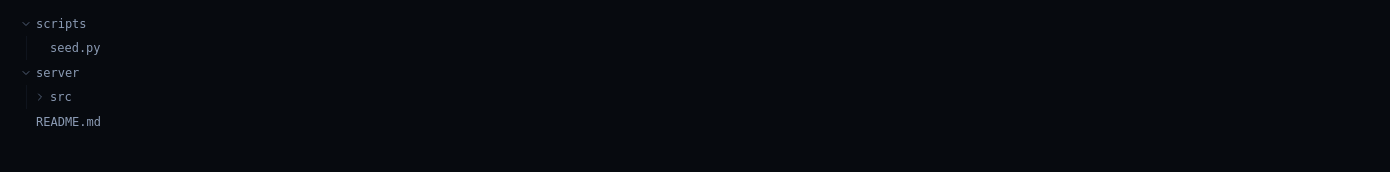
Test: RepositoryFileTree › expands and collapses a folder on click
Click the button with aria-label "server/src": (40, 97) [12,85,1378,109]
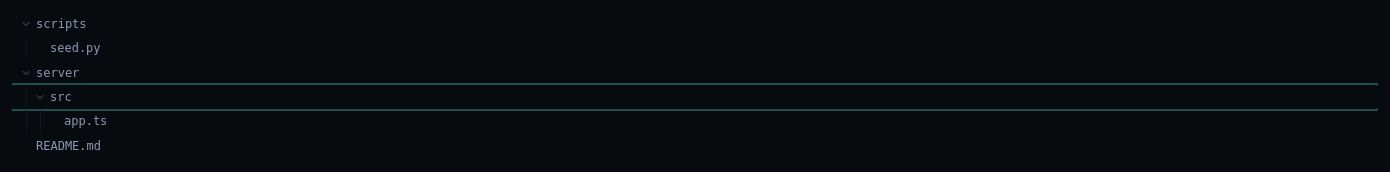
Result: the link with aria-label "server/src/app.ts" is shown at [64,114,107,128]
Click the button with aria-label "server/src": (40, 97) [12,85,1378,109]
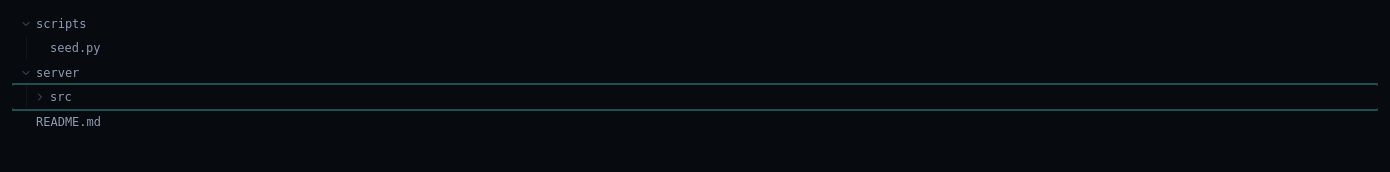
# Collapsing a top-level folder hides its whole subtree.
Click the button "server": (58, 73) [12,61,1378,85]
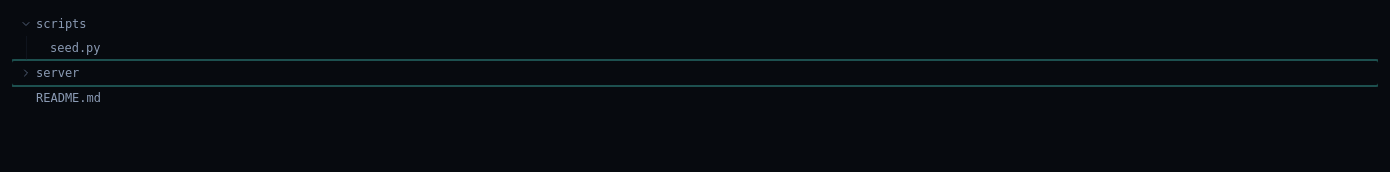
Result: the button "server/src" is gone
